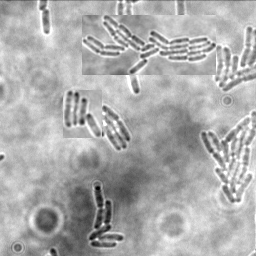Dividing: (41, 8, 52, 35)
Microcolony: (82, 15, 216, 75), (200, 109, 255, 205), (212, 25, 255, 94), (89, 184, 126, 248), (63, 90, 102, 138), (96, 103, 132, 150)
